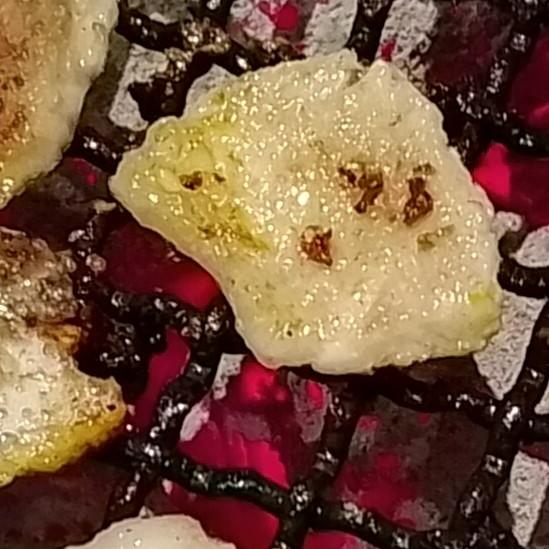Overcooked: (108, 50, 503, 378)
